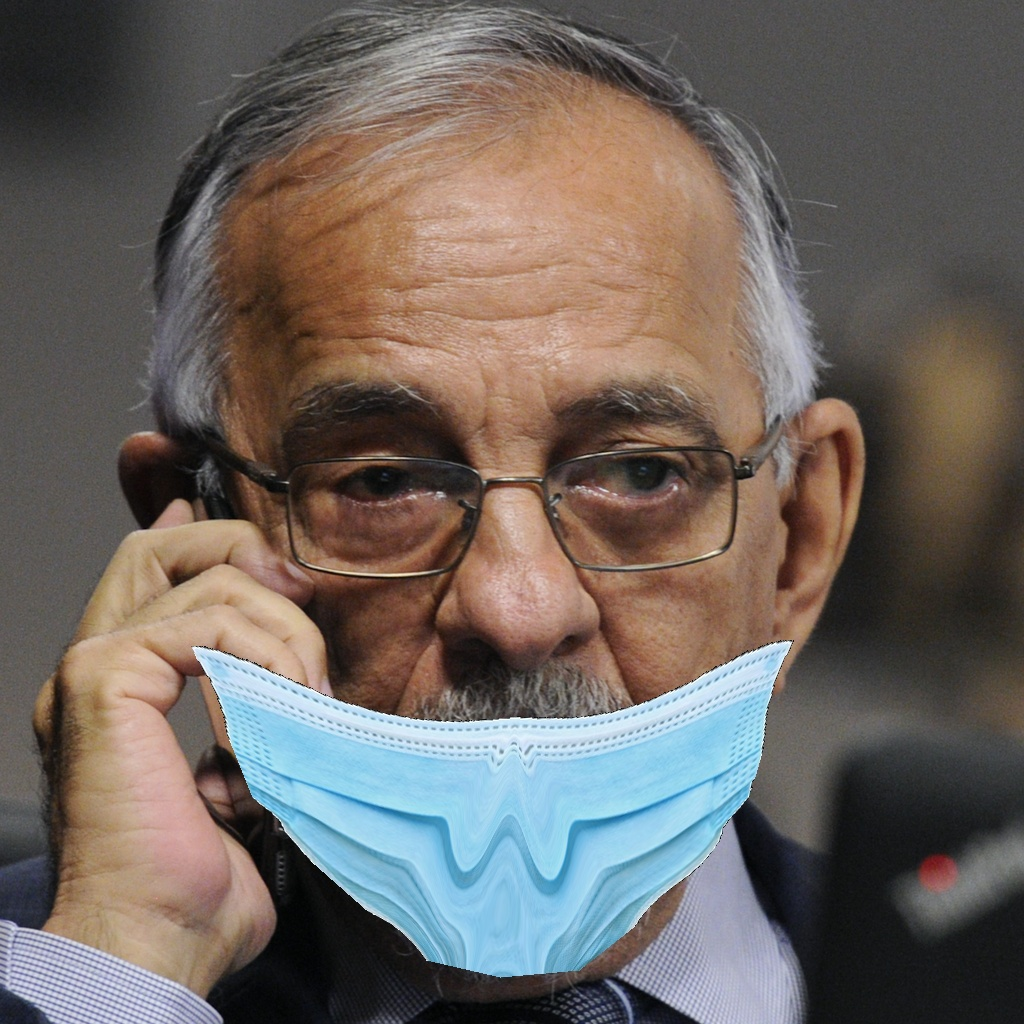mascarilla_mal_puesta: (167, 363, 819, 985)
